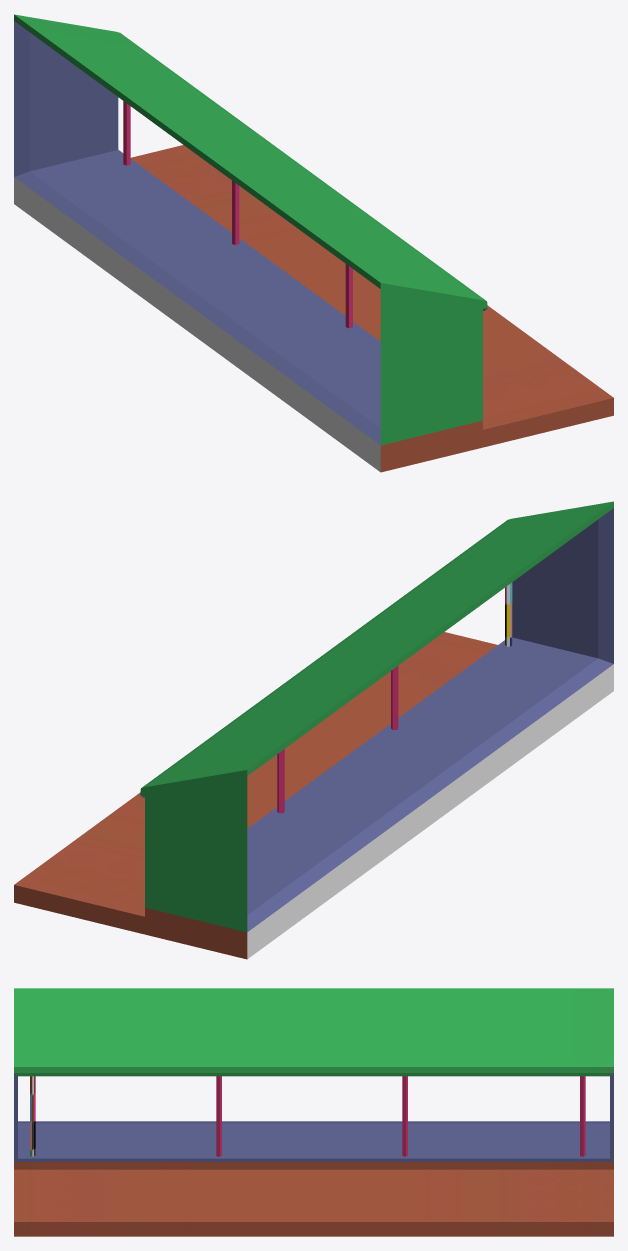
The model's file is station.glb.
The picture shows the model from 3 angles, top to bottom: view 1: azimuth 30°, elevation 25°; view 2: azimuth 150°, elevation 25°; view 3: azimuth 270°, elevation 25°; orthographic projection. The views are drawn at different scales.
Visible parts, largest first — view 1: Cube; view 2: Cube; view 3: Cube.
Boxes of the visible parts, x1,y1,x2,y2 form: Cube: (14,14,613,472); Cube: (14,501,613,959); Cube: (14,988,613,1236).
Bounding box in the file's own units: 0.6852 × 0.5324 × 1.87.
1 material, 1 textured.
